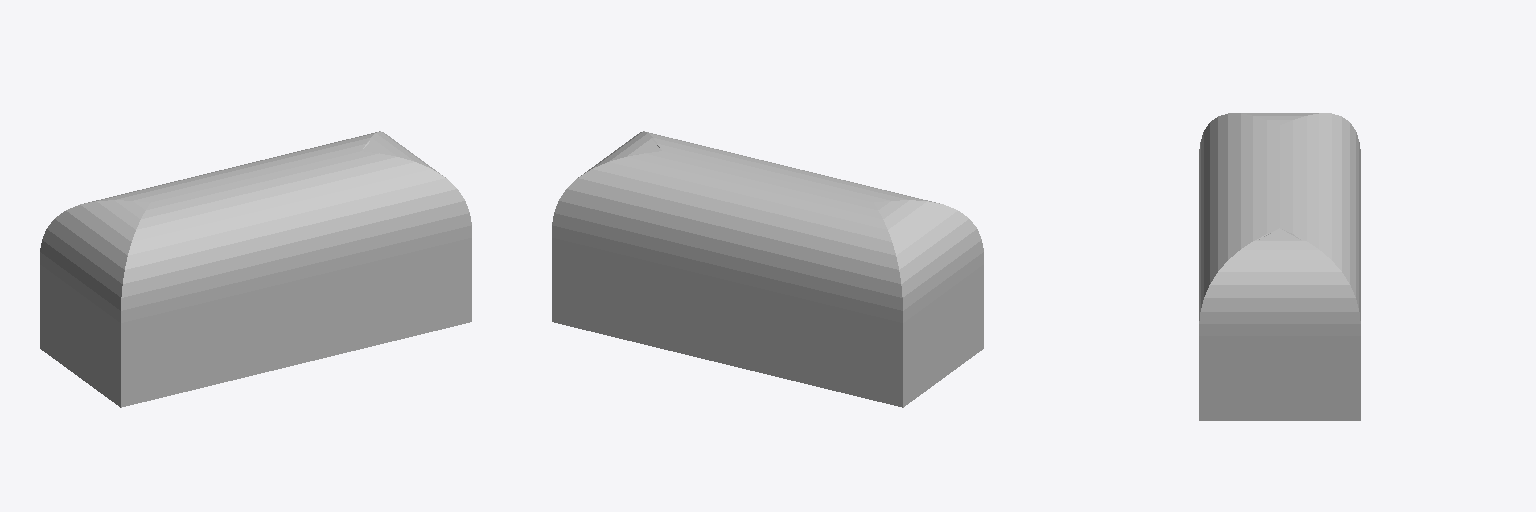
File: room.obj
3 views of the same model, side by side, from view 1: azimuth 30°, elevation 25°; view 2: azimuth 150°, elevation 25°; view 3: azimuth 270°, elevation 25° (orthographic).
Visible parts, largest first — view 1: window_Cube.004, base_Cube, arc_Cube.010; view 2: window_Cube.004, base_Cube, arc_Cube.010; view 3: window_Cube.004, base_Cube, arc_Cube.010.
Part boxes in pixels (x1,y1,x2,y2): window_Cube.004: (44, 133, 464, 320); base_Cube: (40, 238, 471, 407); arc_Cube.010: (40, 131, 471, 322); window_Cube.004: (559, 133, 979, 320); base_Cube: (552, 238, 983, 407); arc_Cube.010: (552, 131, 983, 322); window_Cube.004: (1199, 113, 1360, 335); base_Cube: (1199, 336, 1360, 420); arc_Cube.010: (1199, 113, 1360, 335).
Bounding box in the file's own units: 10 × 4.3 × 4.